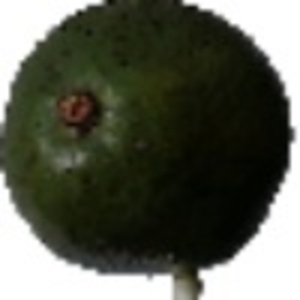abacate: (4, 4, 295, 274)
